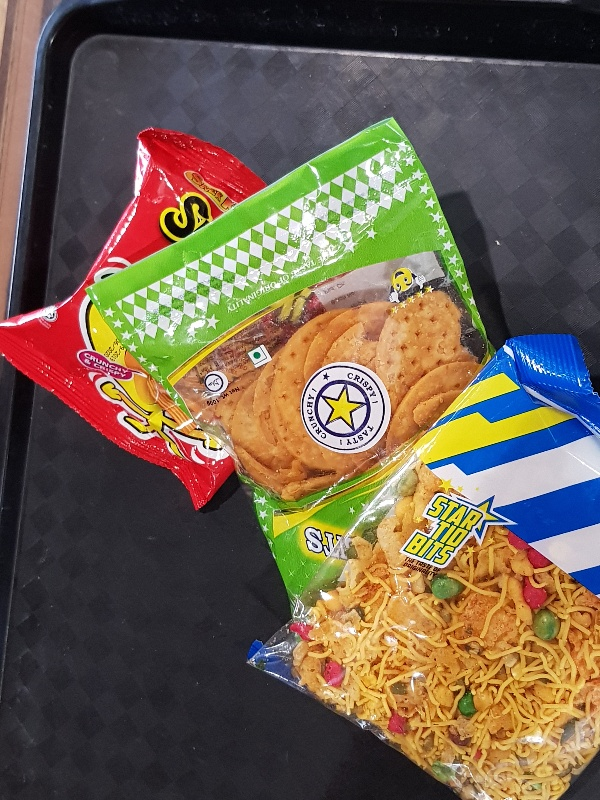ShoyueMi Spicy Flavoured Snacks: (1, 127, 268, 510)
Star Tidbits 'O' Ring: (84, 117, 497, 618)
Star Tidbits Mixer: (242, 334, 599, 800)
